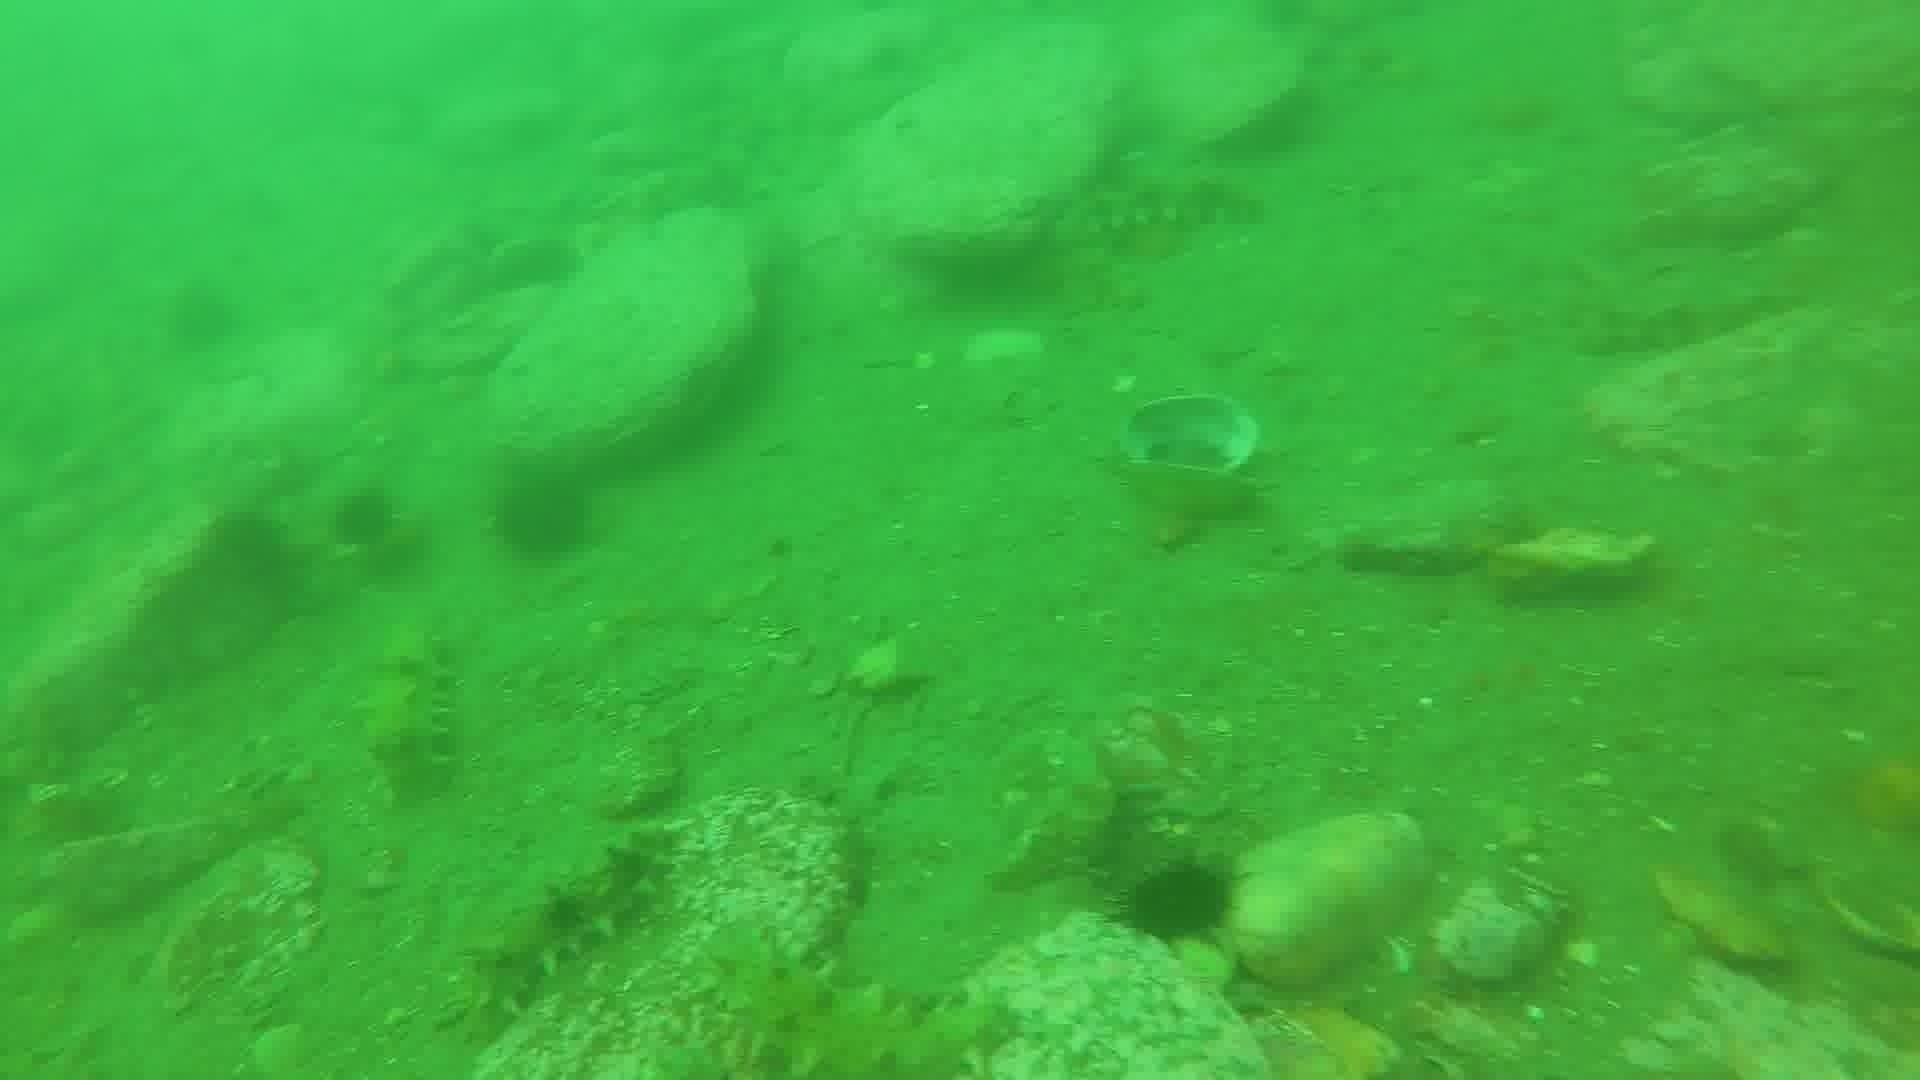echinus: (1114, 855, 1241, 951), (491, 469, 597, 567), (204, 506, 297, 592), (160, 277, 243, 356), (327, 484, 404, 554)
holothurian: (688, 922, 1021, 1077), (454, 825, 679, 1036), (357, 622, 465, 808), (1069, 160, 1266, 244)
